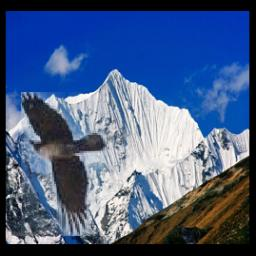Crow: (21, 92, 107, 236)
